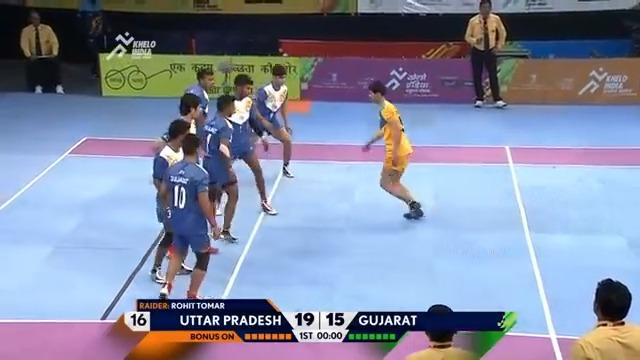Player: (158, 133, 220, 299), (225, 73, 279, 215), (149, 118, 193, 283), (567, 277, 639, 359), (200, 94, 239, 243), (250, 63, 295, 178), (463, 0, 508, 108), (403, 303, 478, 359), (180, 66, 215, 132)
Raider: (361, 80, 424, 219)
referee: (18, 9, 65, 94), (85, 10, 107, 78)
